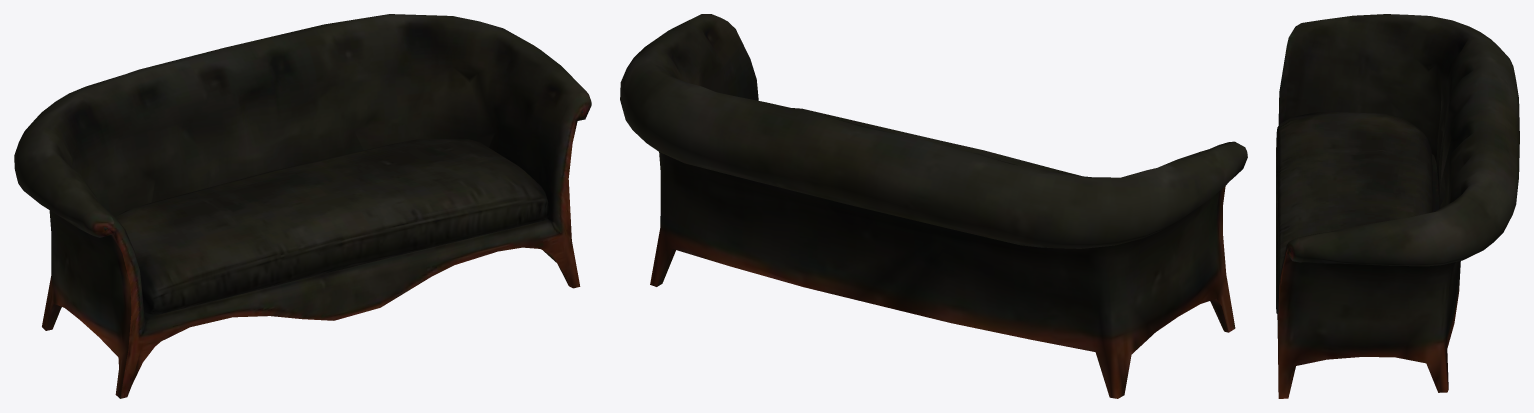
Rendered from sofa_02_2k.glb.
The picture shows the model from 3 angles, left to right: view 1: azimuth 30°, elevation 25°; view 2: azimuth 150°, elevation 25°; view 3: azimuth 270°, elevation 25°; orthographic projection. The views are drawn at different scales.
Visible parts, largest first — view 1: sofa_02_Base; view 2: sofa_02_Base; view 3: sofa_02_Base.
Part boxes in pixels (x1,y1,x2,y2): sofa_02_Base: (14,14,591,398); sofa_02_Base: (620,14,1247,398); sofa_02_Base: (1276,14,1519,398).
Bounding box in the file's own units: 1.81 × 0.7095 × 0.8159.
1 material, 1 textured.
